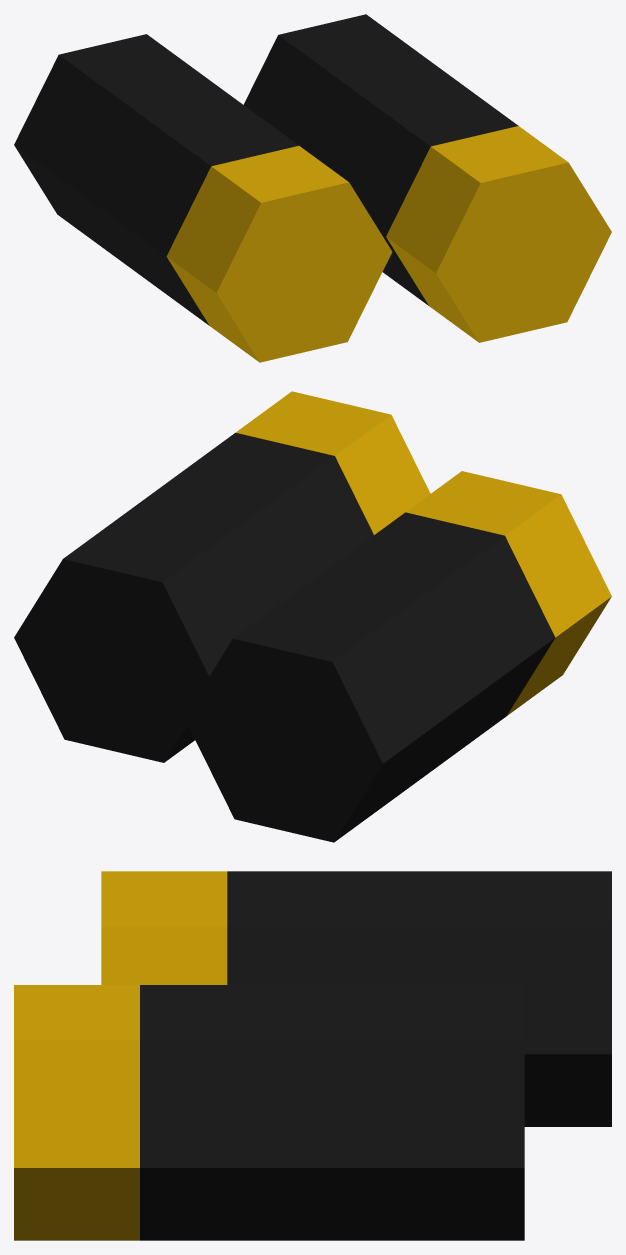
Rendered from RiotShells_3D.glb.
3 renders of one model, top to bottom at view 1: azimuth 30°, elevation 25°; view 2: azimuth 150°, elevation 25°; view 3: azimuth 270°, elevation 25°, orthographic. The views are drawn at different scales.
Parts seen in each view (by area): view 1: riotShellPack; view 2: riotShellPack; view 3: riotShellPack.
Part boxes in pixels (x1,y1,x2,y2): riotShellPack: (14, 14, 611, 362); riotShellPack: (14, 391, 611, 842); riotShellPack: (14, 871, 611, 1240).
Size of the model in its own units: 0.1363 by 0.0579 by 0.1551.
1 material, 1 textured.
